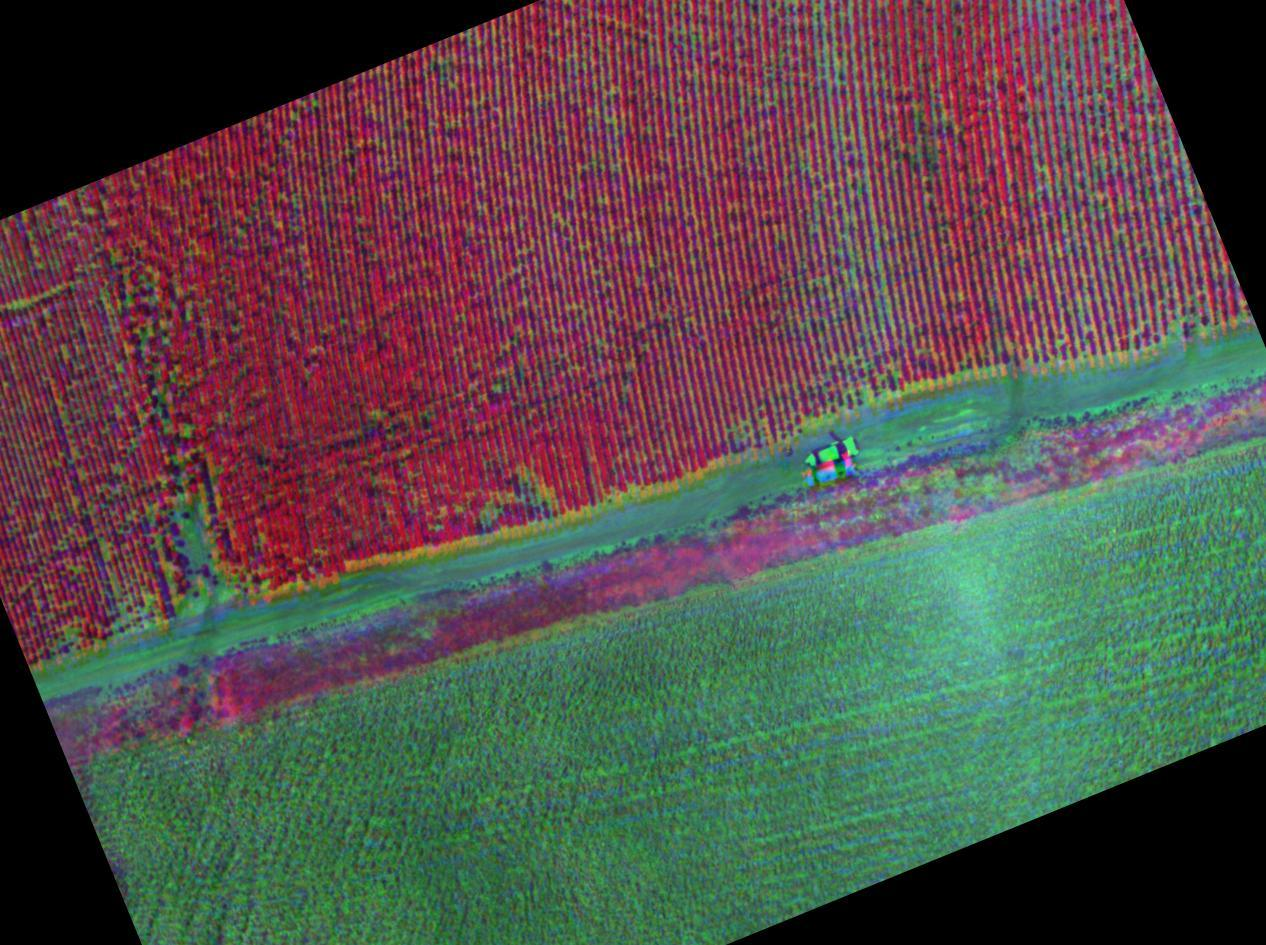dc: (125, 441, 269, 614), (778, 356, 912, 429), (460, 456, 579, 533), (878, 89, 970, 185)
